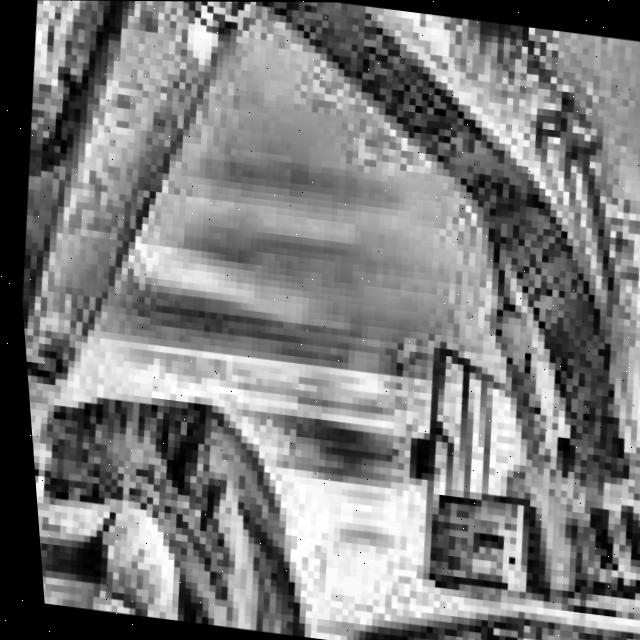excavator: (326, 259, 640, 640)
